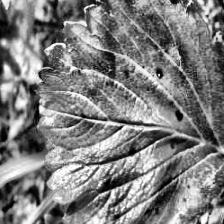Leaf Spot: (31, 0, 224, 224)
